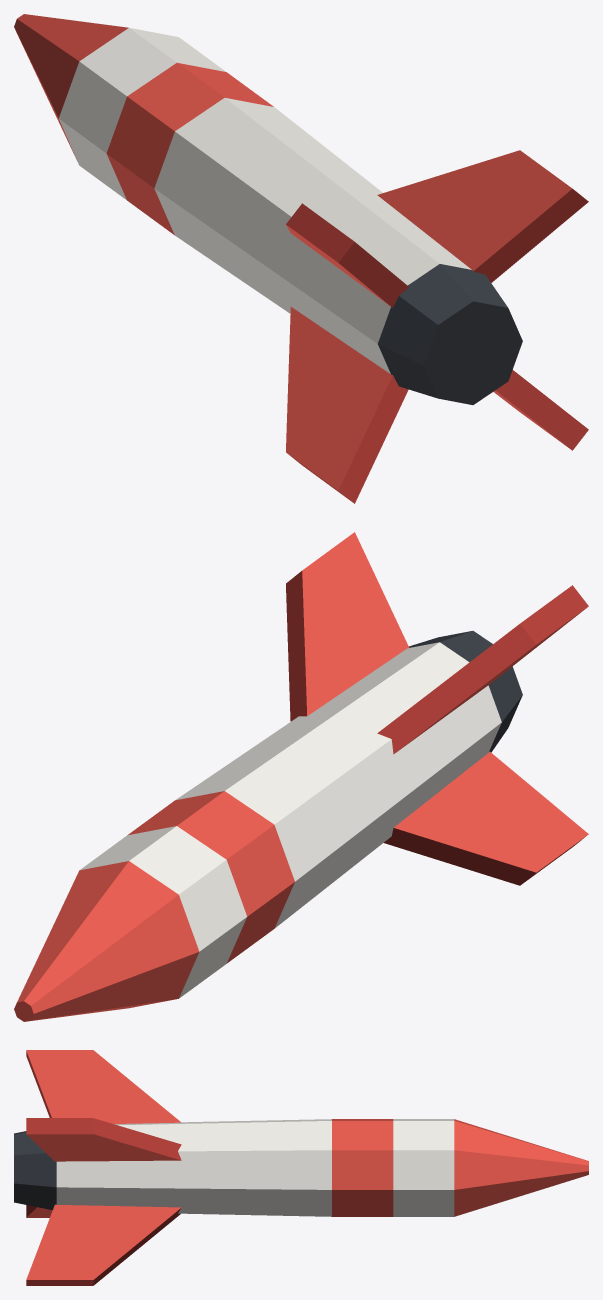
The model's file is V_HeliRocket.fbx.
3 views of the same model, one above another, from view 1: azimuth 30°, elevation 25°; view 2: azimuth 150°, elevation 25°; view 3: azimuth 270°, elevation 25° (orthographic). The views are drawn at different scales.
Parts seen in each view (by area): view 1: V_HeliRocket; view 2: V_HeliRocket; view 3: V_HeliRocket.
Part boxes in pixels (left/top/right/bottom): V_HeliRocket: left=14, top=14, right=588, bottom=503; V_HeliRocket: left=14, top=532, right=588, bottom=1021; V_HeliRocket: left=14, top=1050, right=588, bottom=1285.
Size of the model in its own units: 0.3026 by 0.3026 by 0.94.
